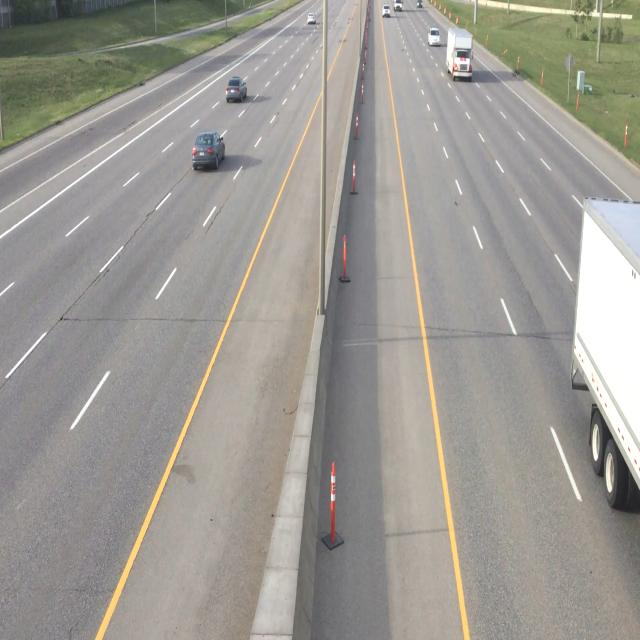Vehicle: (190, 130, 227, 171), (445, 27, 474, 79), (225, 75, 248, 105), (427, 26, 441, 49)
